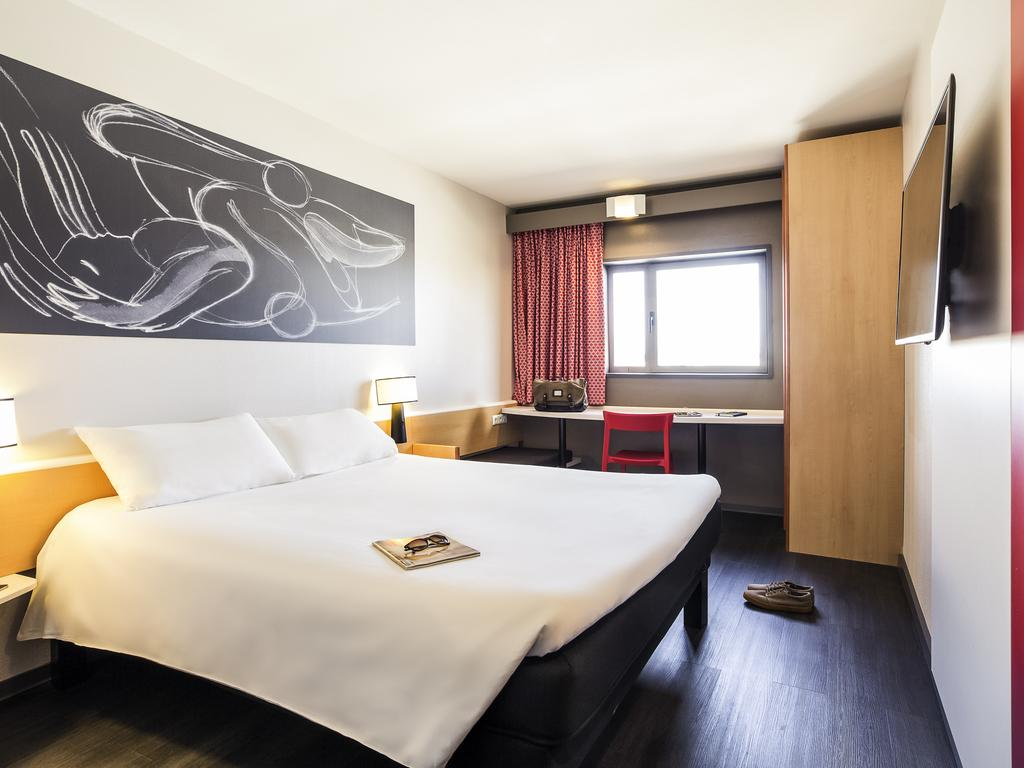bed: (0, 420, 737, 768)
